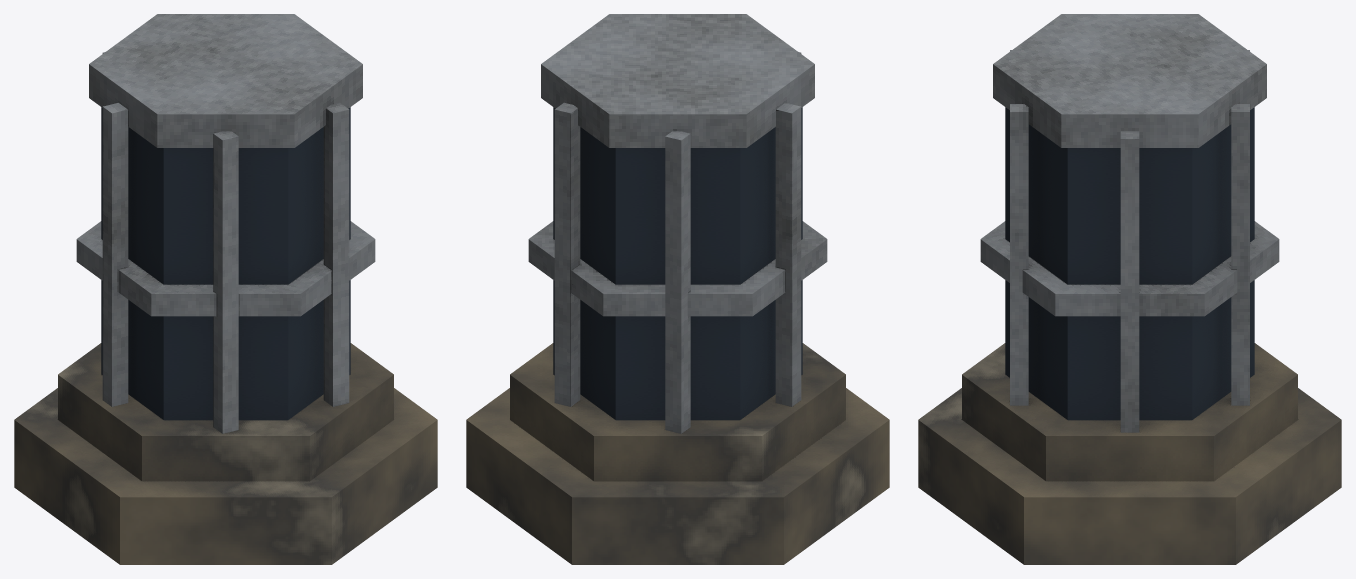
The model's file is relic_cache_field.glb.
3 renders of one model, left to right at view 1: azimuth 30°, elevation 25°; view 2: azimuth 150°, elevation 25°; view 3: azimuth 270°, elevation 25°, orthographic.
Visible parts, largest first — view 1: relic_cache_field; view 2: relic_cache_field; view 3: relic_cache_field.
Boxes of the visible parts, <box> form: relic_cache_field: <box>14,14,437,564</box>; relic_cache_field: <box>466,14,889,564</box>; relic_cache_field: <box>918,14,1341,564</box>.
Bounding box in the file's own units: 0.5889 × 0.75 × 0.68.
Materials: 4 (4 with a texture image).
